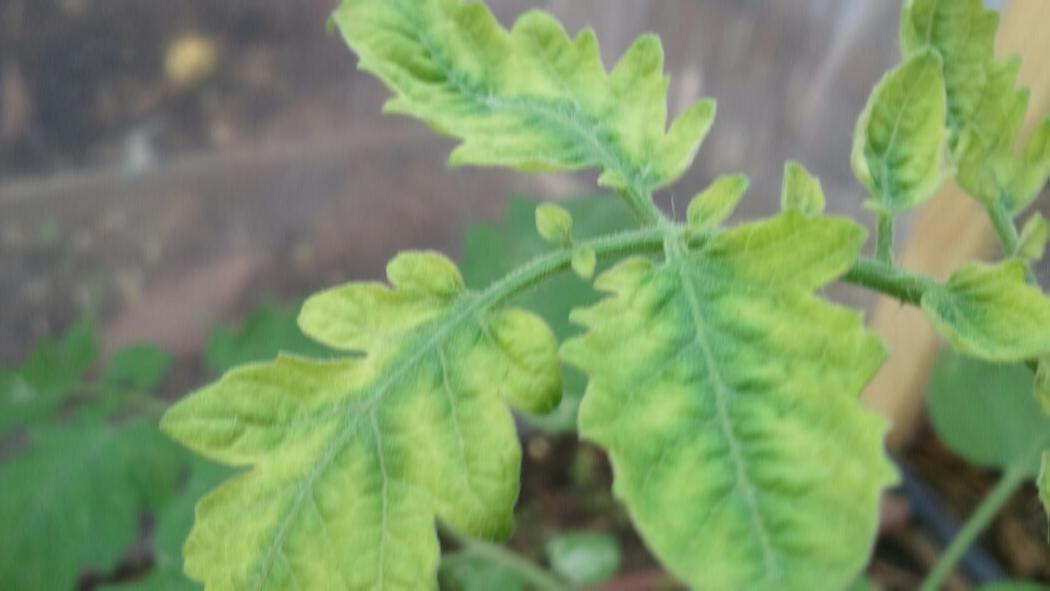Tomato leaf yellow virus: (183, 240, 560, 591), (583, 228, 915, 591), (275, 0, 708, 211), (888, 0, 1050, 202), (843, 37, 945, 215)
